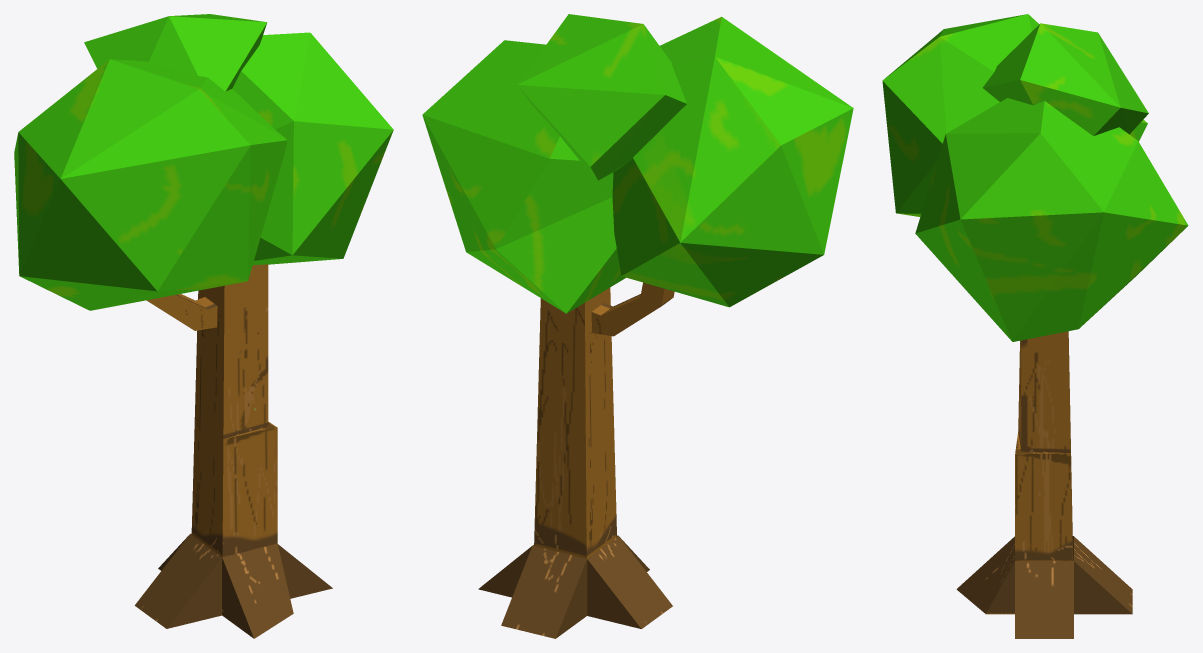
File: tree_chesburg_3.glb
The picture shows the model from 3 angles, left to right: view 1: azimuth 30°, elevation 25°; view 2: azimuth 150°, elevation 25°; view 3: azimuth 270°, elevation 25°; orthographic projection. The views are drawn at different scales.
Visible parts, largest first — view 1: leaves.002; view 2: leaves.002; view 3: leaves.002.
Boxes of the visible parts, box(x1,y1,x2,y2) form: leaves.002: box(14, 14, 393, 638); leaves.002: box(422, 14, 853, 638); leaves.002: box(882, 14, 1188, 638).
Size of what is drawn, in the model's own units: 6.43 by 10.3 by 5.21.
1 material, 1 textured.
